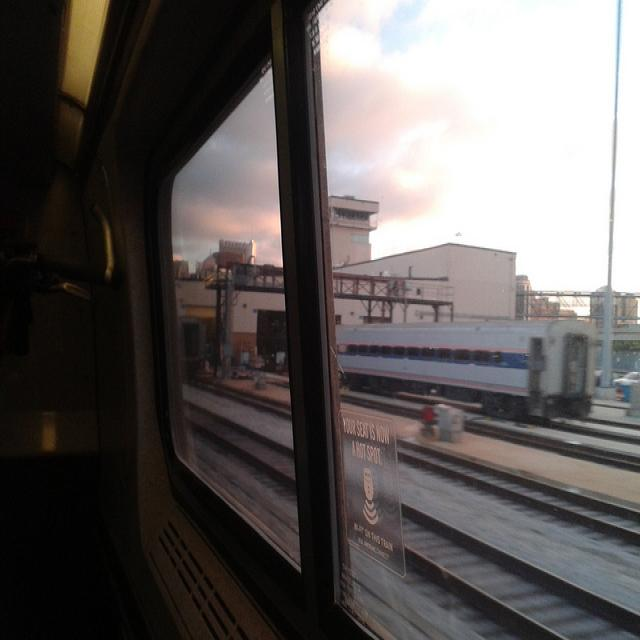Vehicle: (612, 371, 640, 386)
